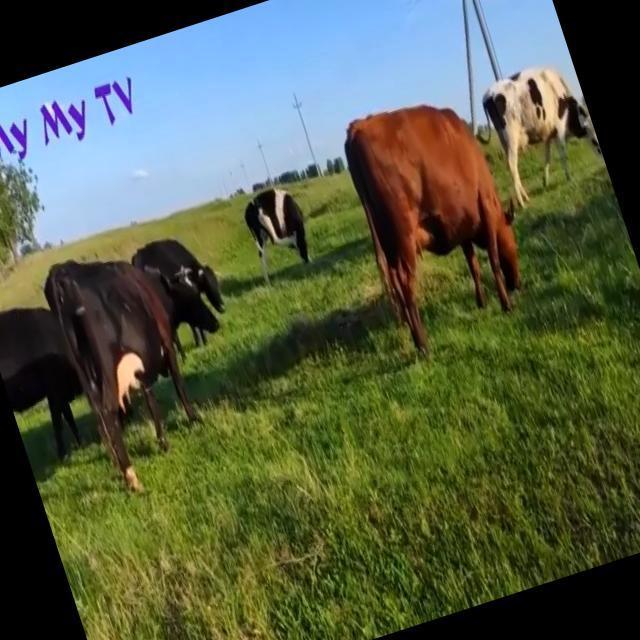COW: (0, 239, 224, 487), (345, 105, 520, 352), (485, 68, 602, 203), (245, 189, 308, 282)
